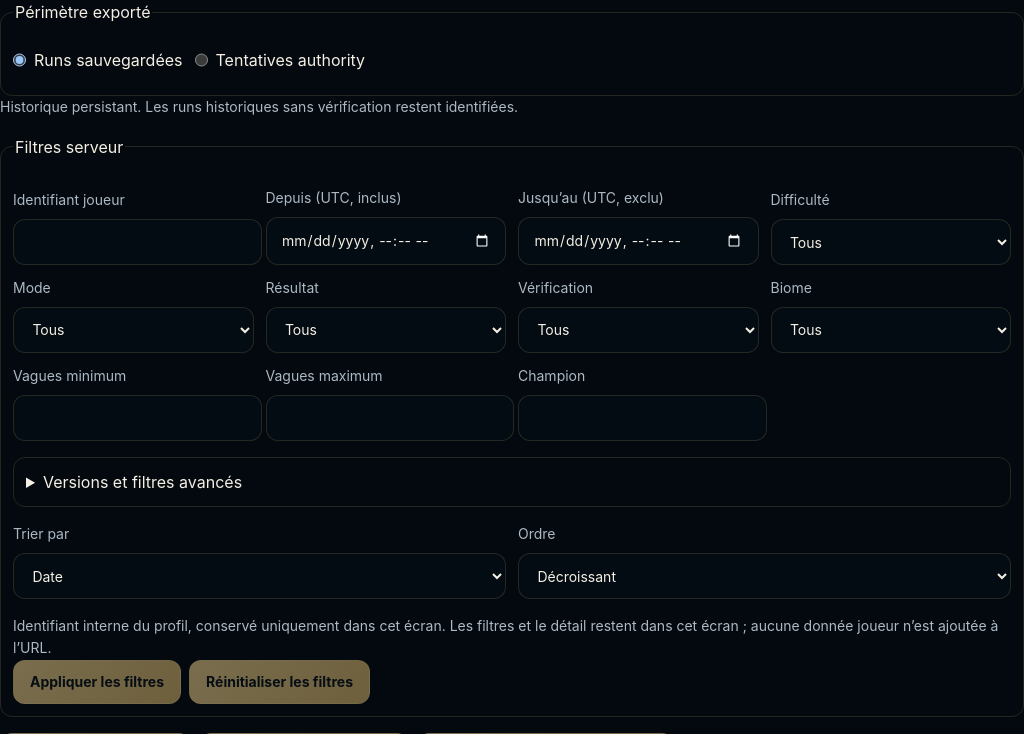
Scenario: admin run explorer state › distinguishes attempts, disables unknown dimensions and keeps rejected rewards unverified
The width and height of the screenshot is (1024, 734).
Click the radio button labelled "Tentatives authority" at {"x": 201, "y": 60}, box [194, 37, 208, 83]
(page scrolled)
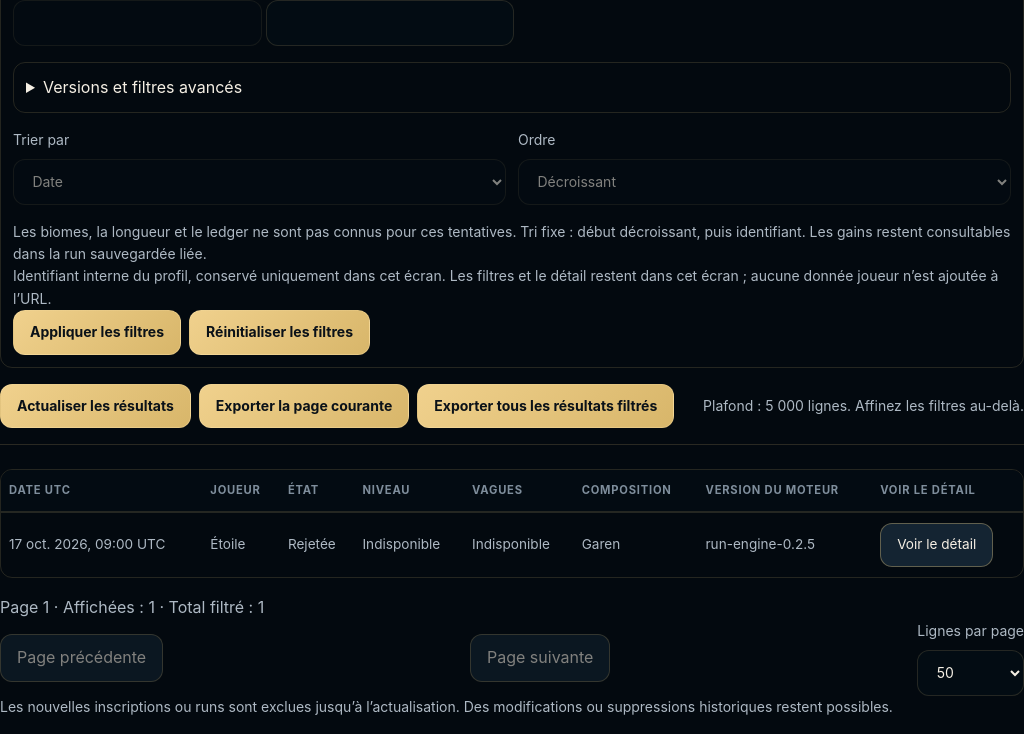
Expected: the table named "Tentatives authority" is shown, [1, 470, 1023, 576]
Expected: the cell "Rejetée" is shown, [280, 513, 354, 577]
Expected: the button "Appliquer les filtres" is enabled, [13, 310, 181, 355]
Click the button "Voir le détail" at {"x": 937, "y": 545}, box [880, 523, 993, 567]
(page scrolled)
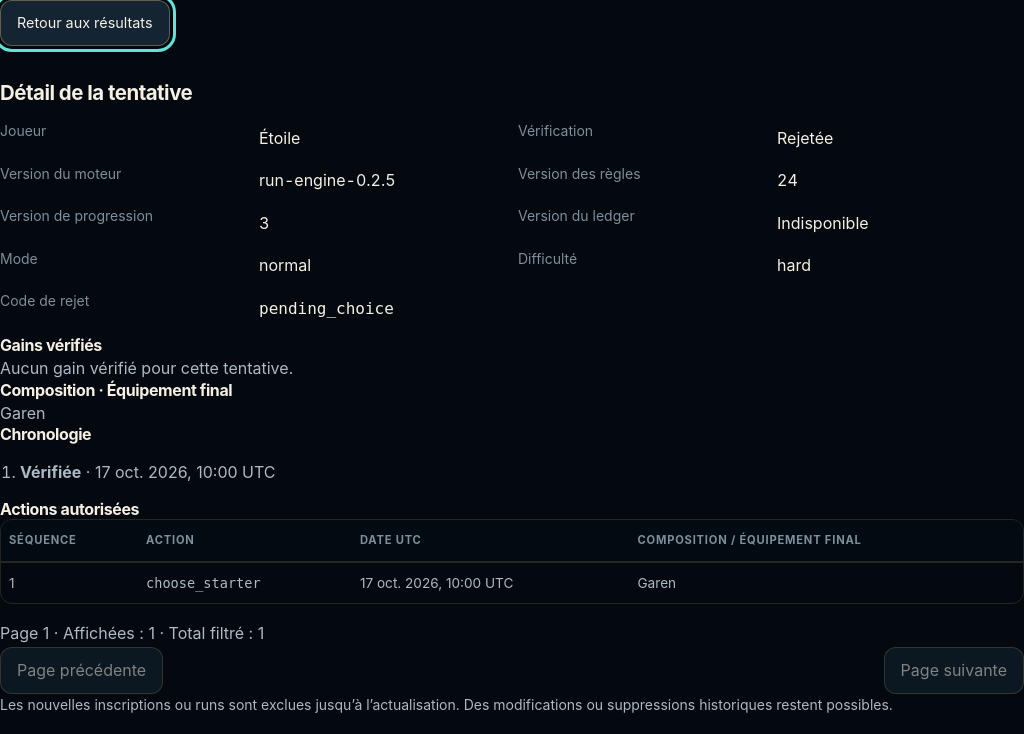
Expected: the text "pending_choice" is shown, [259, 299, 394, 318]
Expected: the text "Aucun gain vérifié pour cette tentative." is shown, [0, 358, 293, 378]
